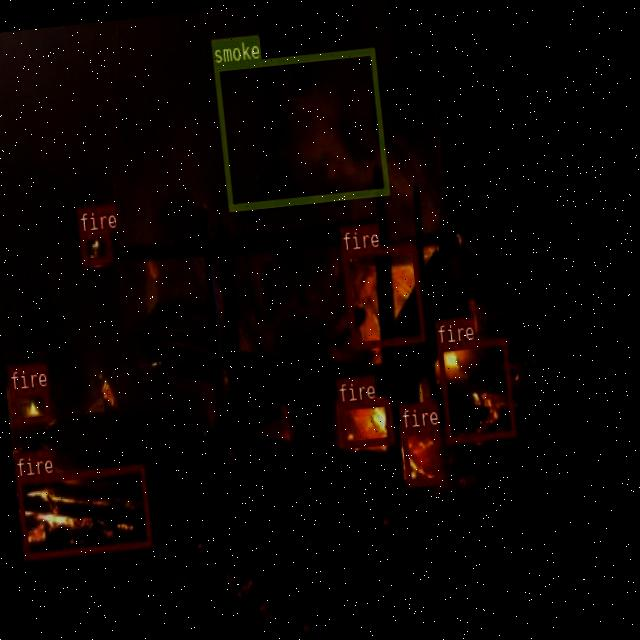fire: (15, 463, 152, 559), (342, 243, 425, 348), (436, 336, 516, 442), (338, 398, 393, 447), (401, 425, 442, 485), (10, 386, 50, 424), (79, 228, 111, 264)
smoke: (214, 48, 388, 210)
